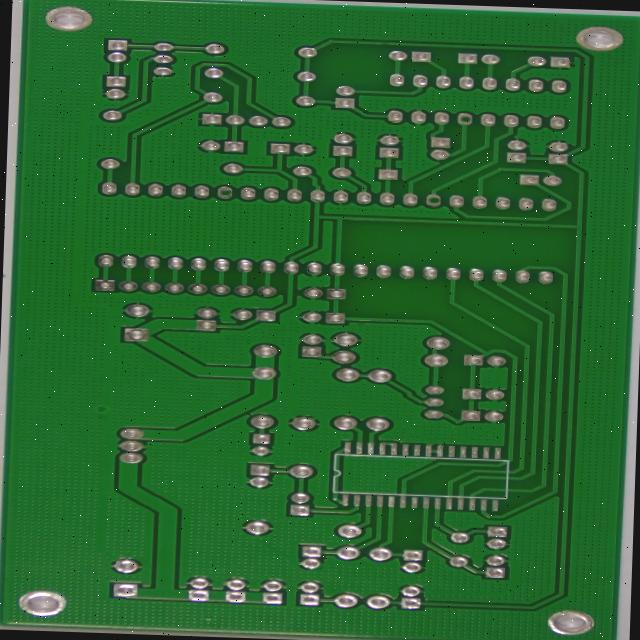missing_hole: (448, 185, 472, 201), (224, 178, 251, 192), (481, 103, 506, 117)
